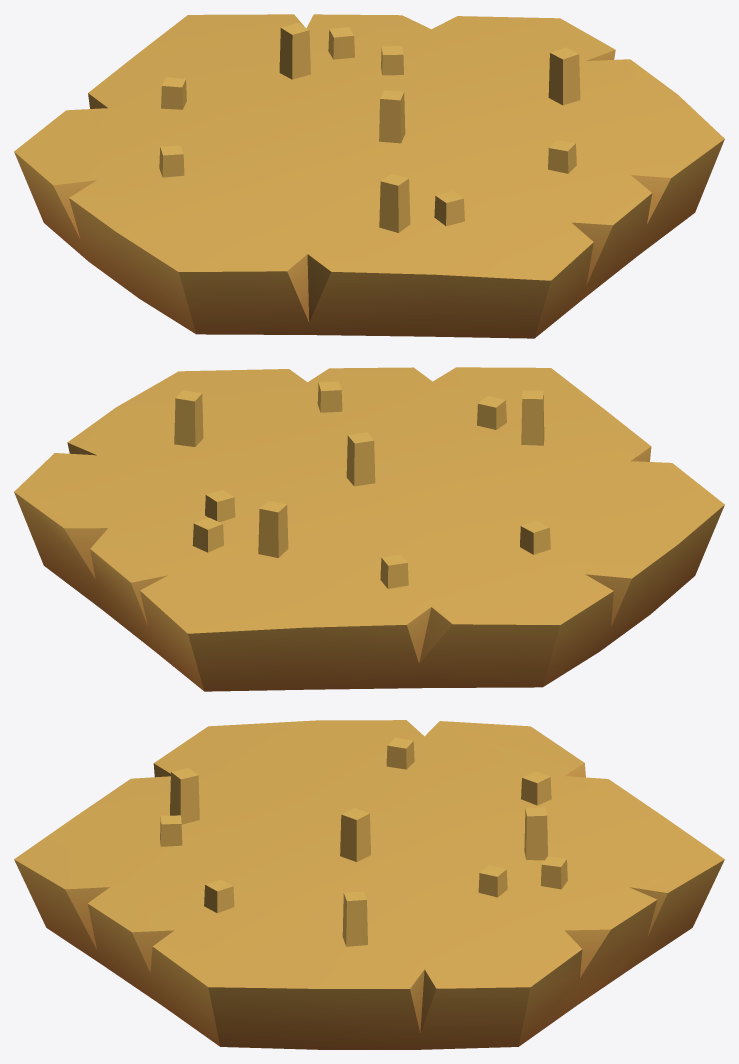
Rendered from grain.glb.
3 views of the same model, one above another, from view 1: azimuth 30°, elevation 25°; view 2: azimuth 150°, elevation 25°; view 3: azimuth 270°, elevation 25° (orthographic). The views are drawn at different scales.
Parts seen in each view (by area): view 1: building_grain; view 2: building_grain; view 3: building_grain.
Part boxes in pixels (x1,y1,x2,y2): building_grain: (14,14,724,338); building_grain: (14,367,724,691); building_grain: (14,720,724,1049).
Bounding box in the file's own units: 1.87 × 0.3938 × 2.09.
Materials: 1 (1 with a texture image).
